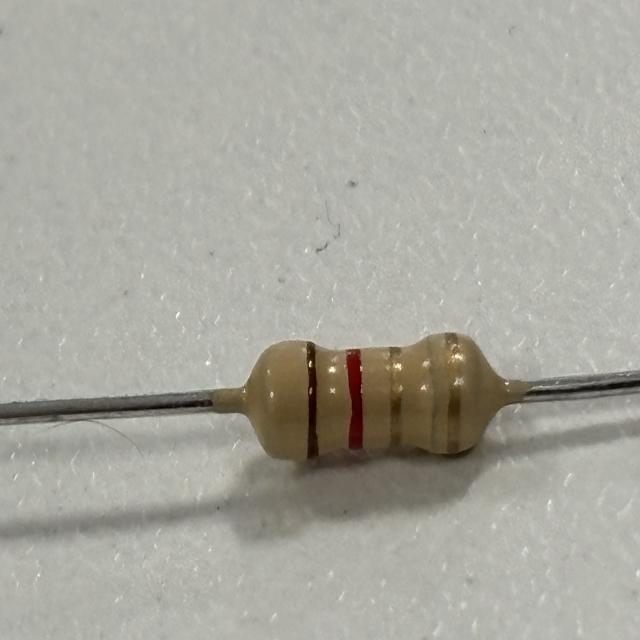resistor: (250, 328, 492, 470)
